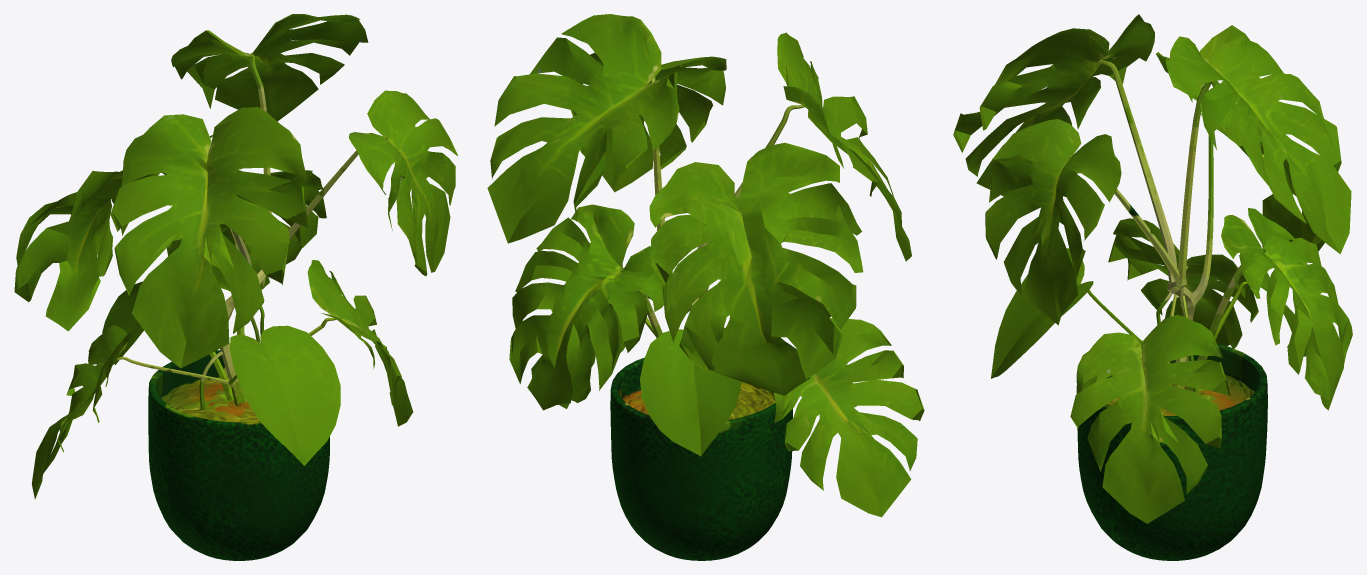
Rendered from plant.fbx.
3 views of the same model, side by side, from view 1: azimuth 30°, elevation 25°; view 2: azimuth 150°, elevation 25°; view 3: azimuth 270°, elevation 25° (orthographic). The views are drawn at different scales.
Visible parts, largest first — view 1: mesh_textured; view 2: mesh_textured; view 3: mesh_textured.
Part boxes in pixels (left/top/right/bottom): mesh_textured: left=14, top=14, right=457, bottom=560; mesh_textured: left=487, top=14, right=924, bottom=560; mesh_textured: left=953, top=14, right=1352, bottom=560.
Bounding box in the file's own units: 78.65 × 100 × 67.99.
1 material, 1 textured.
